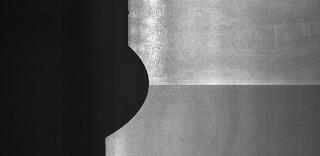welding line: (150, 80, 318, 90)
